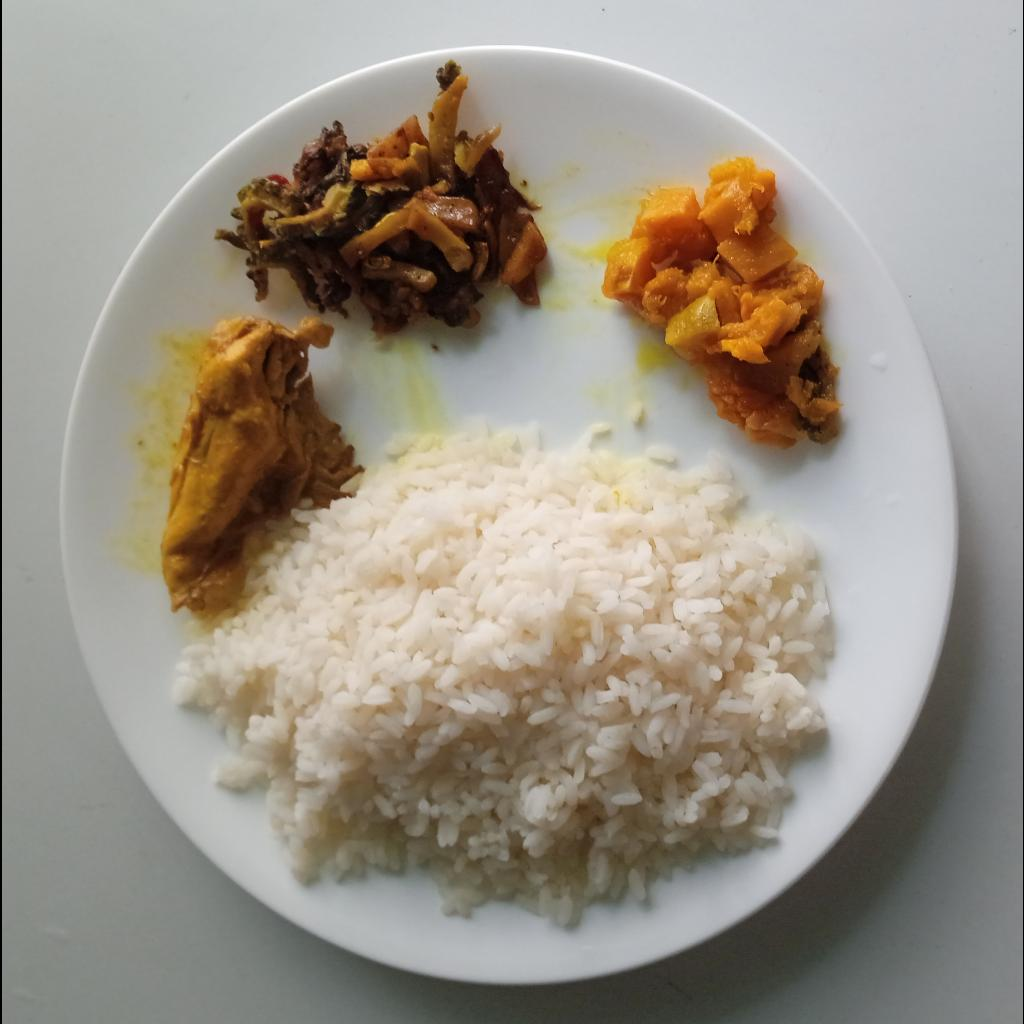chicken: (156, 318, 361, 613)
korola-vaji: (217, 60, 550, 337)
kumra-vaji: (599, 154, 844, 452)
rice: (165, 414, 831, 935)
